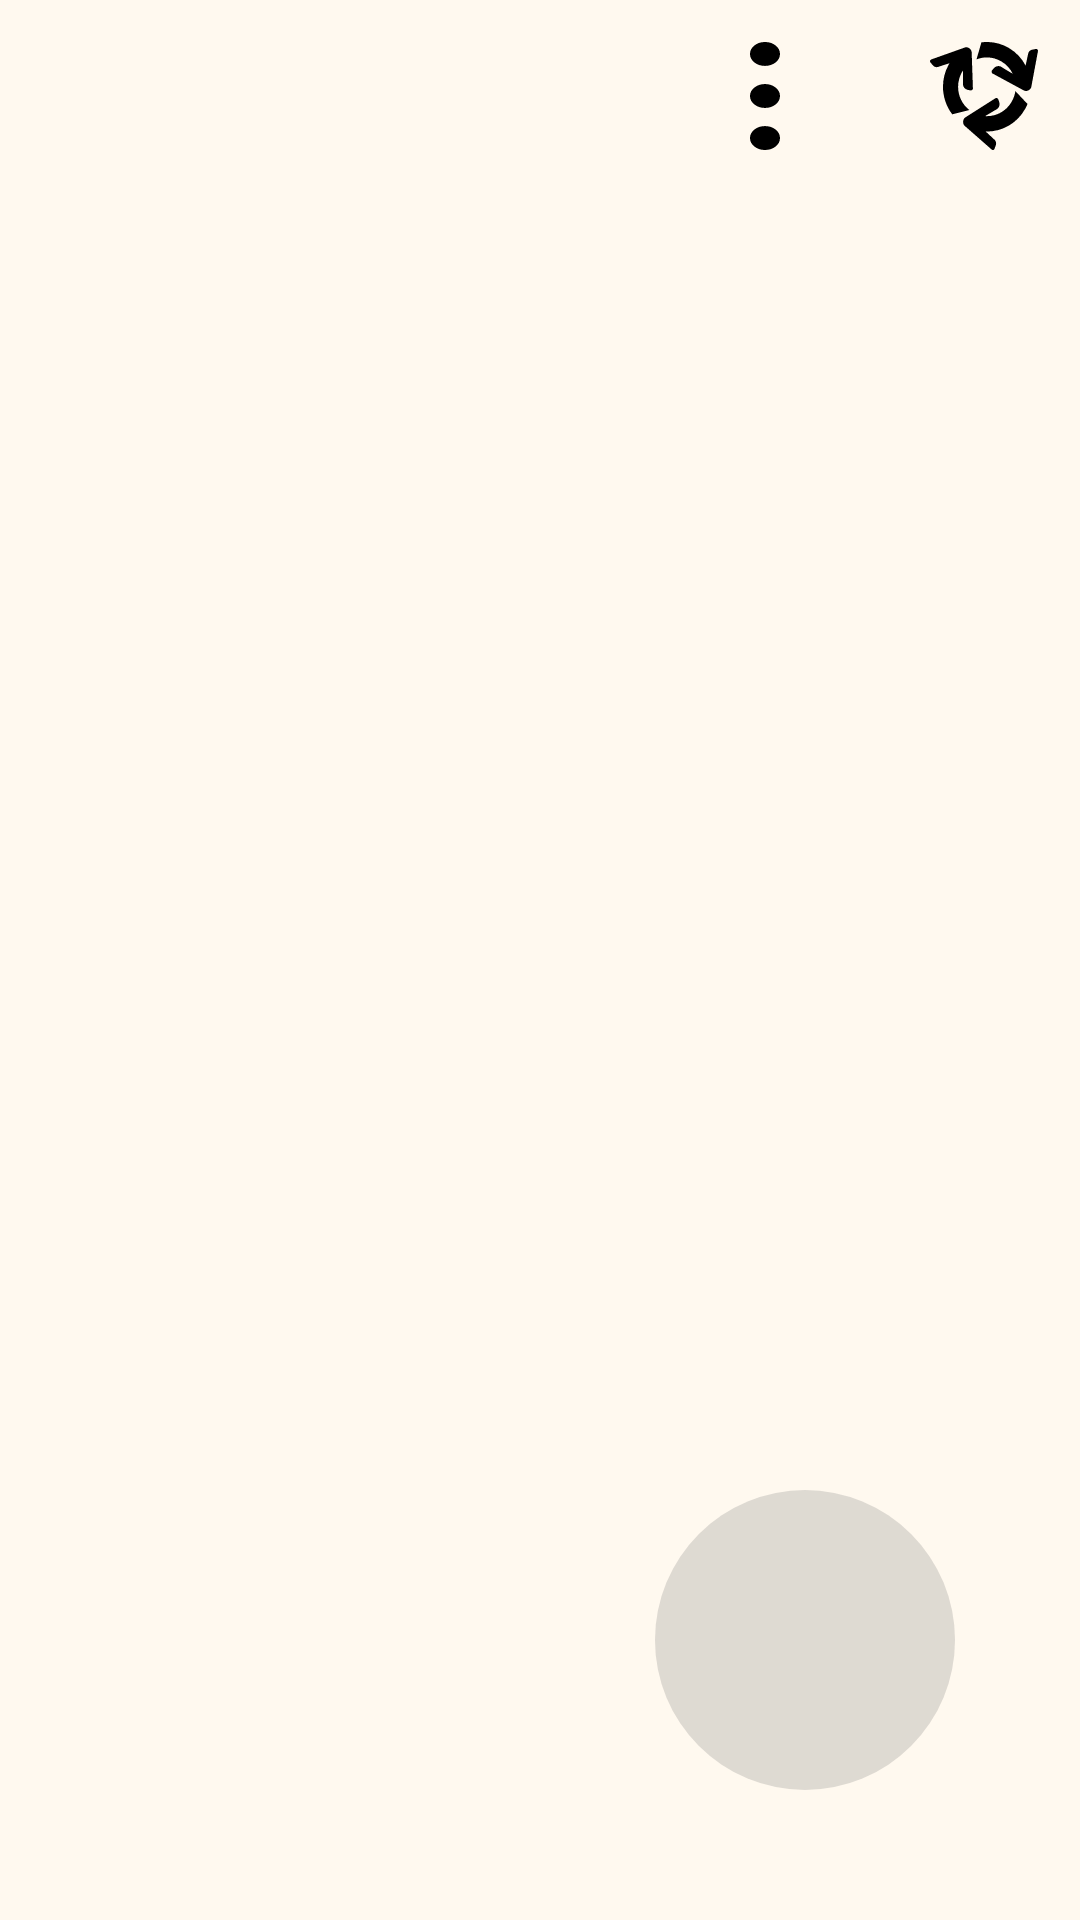

Point at icon controls on the screen. Image size 1080 x 1920, points as (x=x, y=y).
option: (x=765, y=96)
